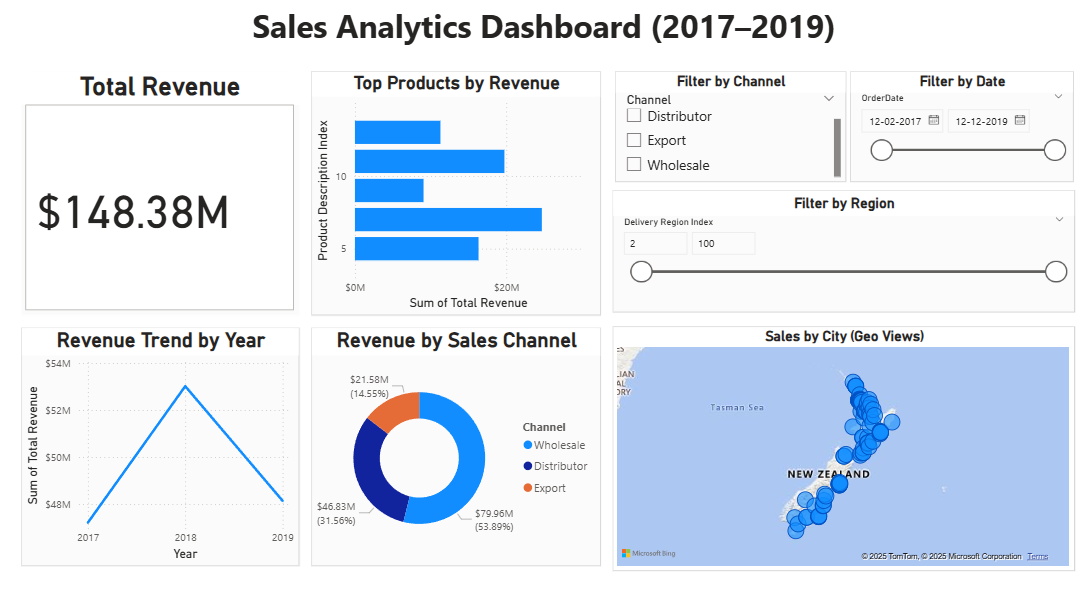

What the dashboard file says about the page in this screenshot:
{"tool":"powerbi","page":{"name":"Page 1","canvas":[1280,720],"ordinal":0},"visuals":[{"type":"cardVisual","title":"Total Revenue","fields":{"Data":["Sum(Sales Orders.Total Revenue)"]},"box":[25.6,83.3,326.9,287.2],"z":0},{"type":"lineChart","title":"Revenue Trend by Year","fields":{"Category":["Sales Orders.OrderDate.Variation.Date Hierarchy.Year","Sales Orders.OrderDate.Variation.Date Hierarchy.Quarter","Sales Orders.OrderDate.Variation.Date Hierarchy.Month","Sales Orders.OrderDate.Variation.Date Hierarchy.Day"],"Y":["Sum(Sales Orders.Total Revenue)"]},"box":[25.6,384.6,326.9,280.8],"z":1000},{"type":"clusteredBarChart","title":"\tTop Products by Revenue","fields":{"Y":["Sum(Sales Orders.Total Revenue)"],"Category":["Sales Orders.Product Description Index"]},"box":[366.7,83.3,341,287.2],"z":2000},{"type":"donutChart","title":"Revenue by Sales Channel","fields":{"Category":["Sales Orders.Channel"],"Y":["Sum(Sales Orders.Total Revenue)"]},"box":[366.7,384.6,341,280.8],"z":3000},{"type":"map","title":"Sales by City (Geo Views)","fields":{"X":["Regions.Longitude"],"Y":["Regions.Latitude"],"Size":["Sum(Sales Orders.Total Revenue)"]},"box":[720,384,544,288],"z":4000},{"type":"slicer","title":"Filter by Channel","fields":{"Values":["Sales Orders.Channel"]},"box":[720.2,79.5,262.9,144.3],"z":5000},{"type":"slicer","title":"Filter by Date","fields":{"Values":["Sales Orders.OrderDate"]},"box":[720,240,544,128],"z":6000},{"type":"slicer","title":"Filter by Region","fields":{"Values":["Sales Orders.Delivery Region Index"]},"box":[992,80,272,144],"z":7000},{"type":"textbox","box":[0,0,1280,70],"z":8000}]}

Visuals, with their boxes in screenshot pixels (x1, y1, x2, y2), scaled from the page's 1280x720 canvas onto the 1083x612 screenshot:
"Total Revenue" cardVisual: 22,71,298,315
"Revenue Trend by Year" lineChart: 22,327,298,566
"	Top Products by Revenue" clusteredBarChart: 310,71,599,315
"Revenue by Sales Channel" donutChart: 310,327,599,566
"Sales by City (Geo Views)" map: 609,326,1069,571
"Filter by Channel" slicer: 609,68,832,190
"Filter by Date" slicer: 609,204,1069,313
"Filter by Region" slicer: 839,68,1069,190
textbox: 0,0,1082,60
